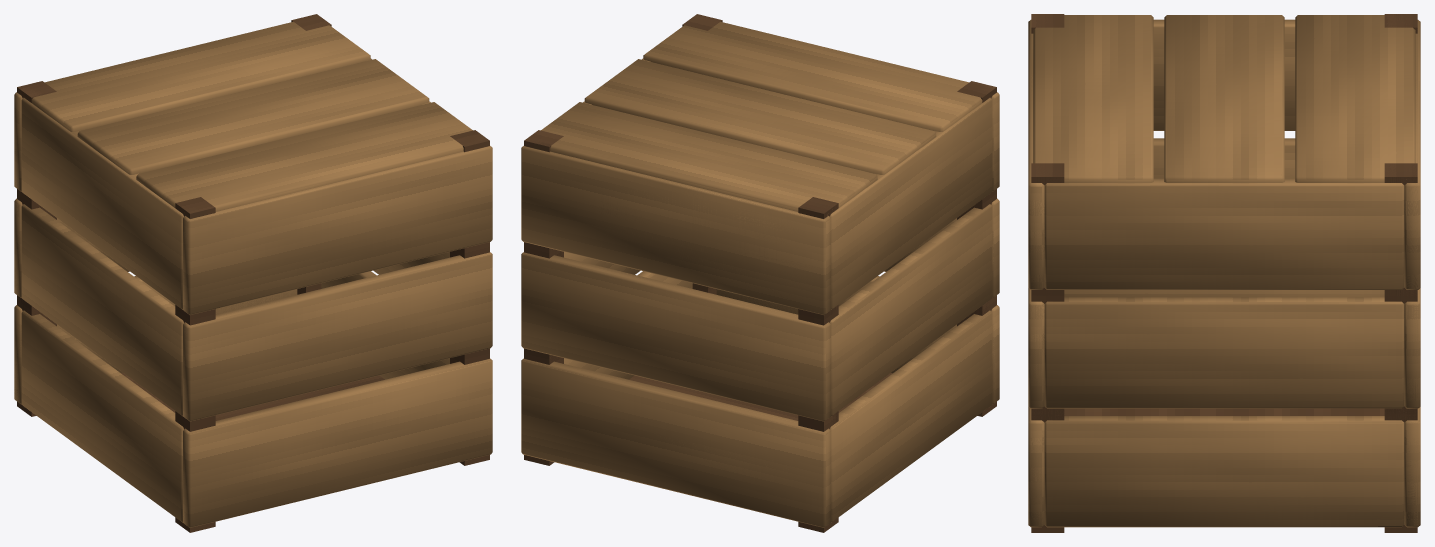
Rendered from caixa_madeira.glb.
3 renders of one model, left to right at view 1: azimuth 30°, elevation 25°; view 2: azimuth 150°, elevation 25°; view 3: azimuth 270°, elevation 25°, orthographic. The views are drawn at different scales.
Visible parts, largest first — view 1: Inteiro, Peca_01, Peca_00; view 2: Inteiro, Peca_01, Peca_00; view 3: Inteiro, Peca_00, Peca_01.
Part boxes in pixels (x1,y1,x2,y2): Inteiro: (14,14,492,532); Peca_01: (14,15,331,416); Peca_00: (183,130,491,525); Inteiro: (521,14,999,532); Peca_01: (522,135,837,532); Peca_00: (682,15,997,415); Inteiro: (1028,14,1420,532); Peca_00: (1028,14,1064,532); Peca_01: (1384,14,1418,532).
Size of the model in its own units: 0.6 by 0.6 by 0.6.
Materials: 1 (1 with a texture image).
